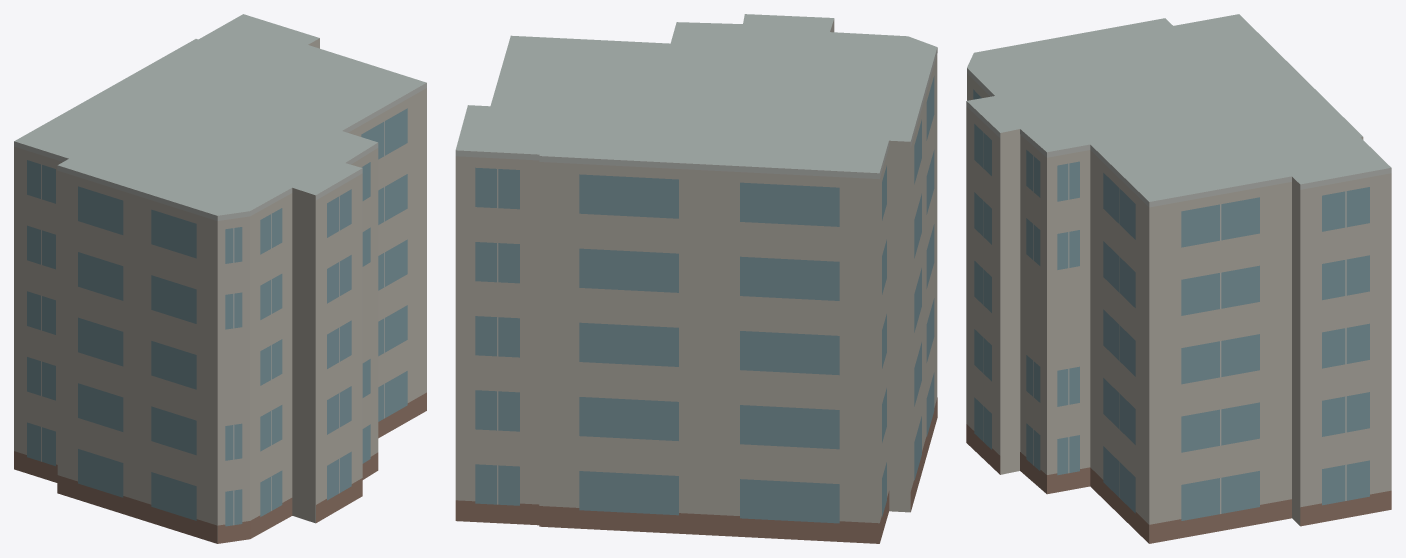
Rendered from survey-upis-32721641.glb.
3 views of the same model, side by side, from view 1: azimuth 30°, elevation 25°; view 2: azimuth 150°, elevation 25°; view 3: azimuth 270°, elevation 25° (orthographic). The views are drawn at different scales.
Visible parts, largest first — view 1: survey-upis-32721641.tmp; view 2: survey-upis-32721641.tmp; view 3: survey-upis-32721641.tmp.
Part boxes in pixels (bbox=[...]): survey-upis-32721641.tmp: bbox=[14, 14, 426, 543]; survey-upis-32721641.tmp: bbox=[455, 14, 937, 543]; survey-upis-32721641.tmp: bbox=[966, 14, 1391, 543].
Size of the model in its own units: 17.99 by 15.25 by 17.19.
